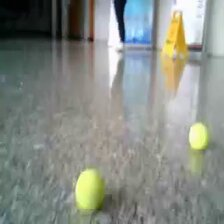tennis: (76, 169, 106, 211), (189, 123, 210, 150)
